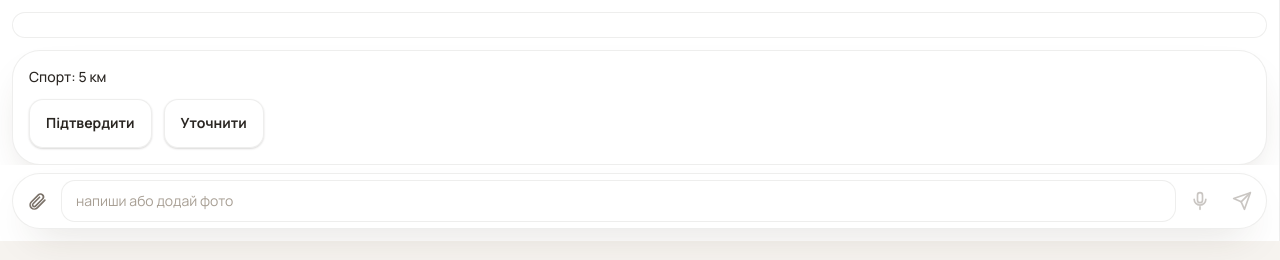
Test: ChatPanel -- confirmed-hint (AC-16/AC-16b, T47) › shows the static hint right after a completed action (AC-02 confirm) and lets ✕ dismiss it
Click the button "Підтвердити".
click(90, 123)  # box [29, 99, 152, 148]
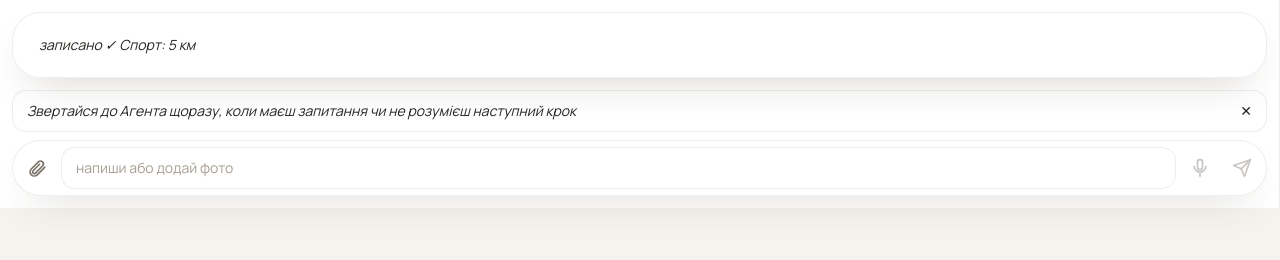
Expected: the text "Звертайся до Агента щоразу, коли маєш запитання чи не розумієш наступний крок" is shown, [27, 101, 576, 120]
Click the button named "Закрити підказку".
click(1246, 111)  # box [1240, 101, 1252, 121]
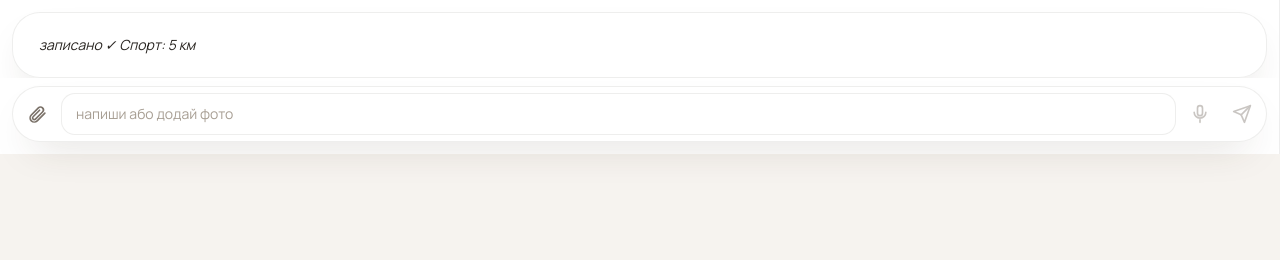
Expected: the text "Звертайся до Агента щоразу, коли маєш запитання чи не розумієш наступний крок" is gone
